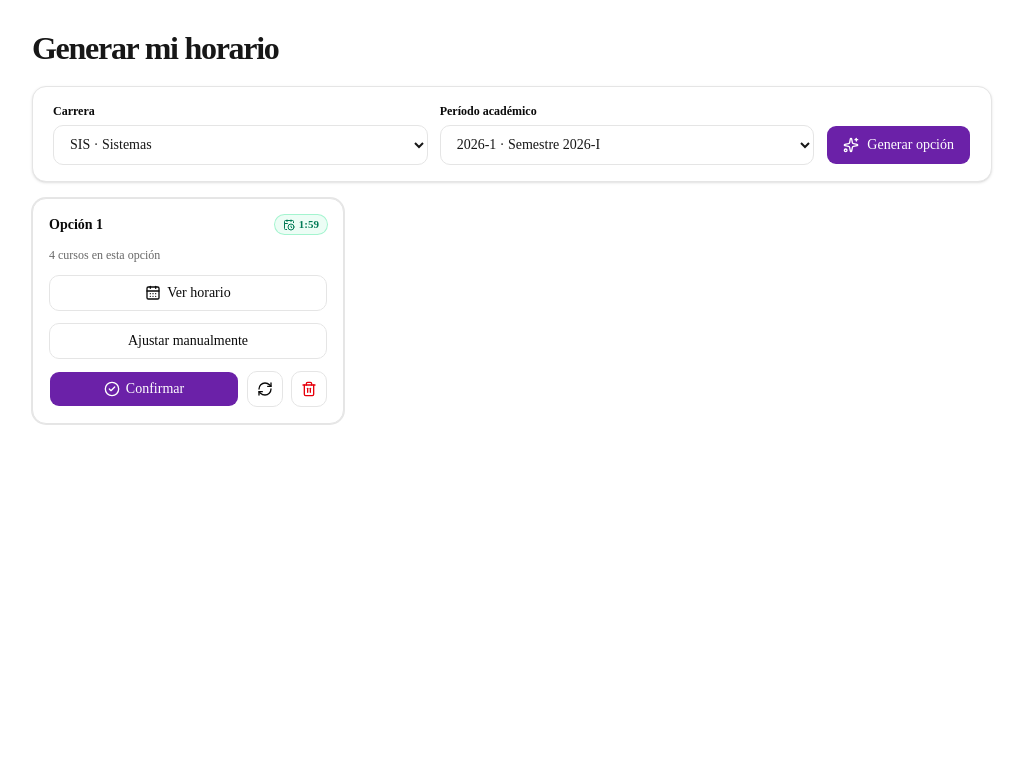
Test: StudentScheduleOptionsPage › permite abrir el diálogo de confirmación
Expected: the text "Opción 1" is shown, left=49, top=215, right=103, bottom=235
Step 1. Click the button "Confirmar" → (144, 389), box left=49, top=371, right=239, bottom=407
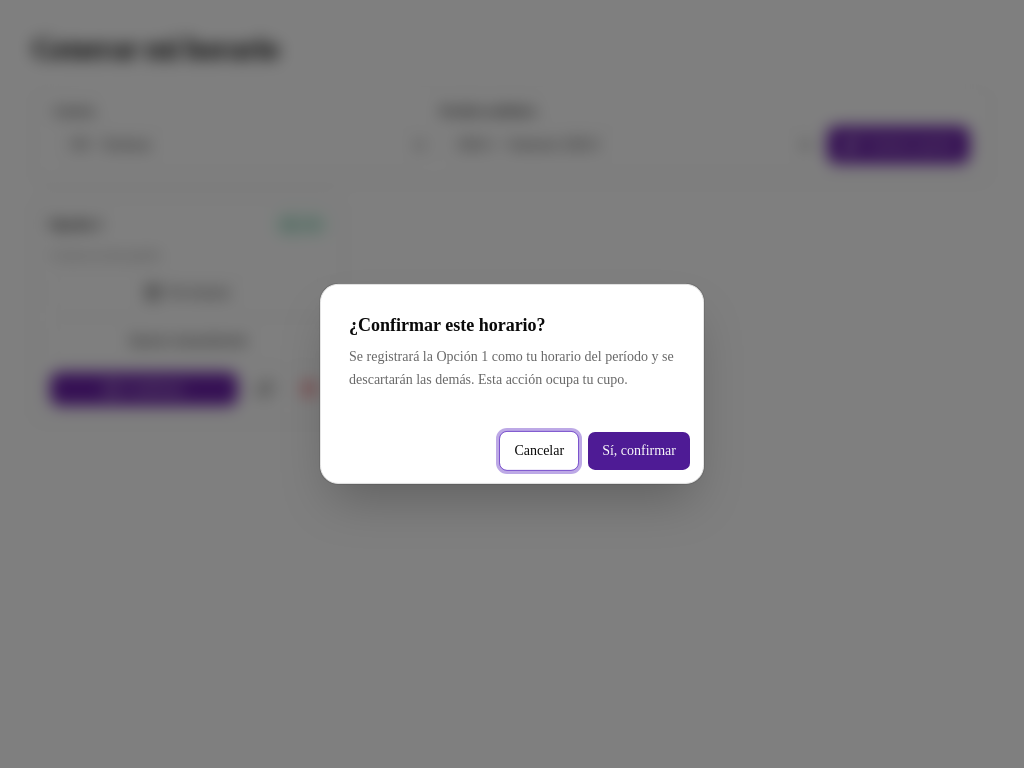
Now the heading "¿Confirmar este horario?" is shown, box left=349, top=313, right=546, bottom=338
